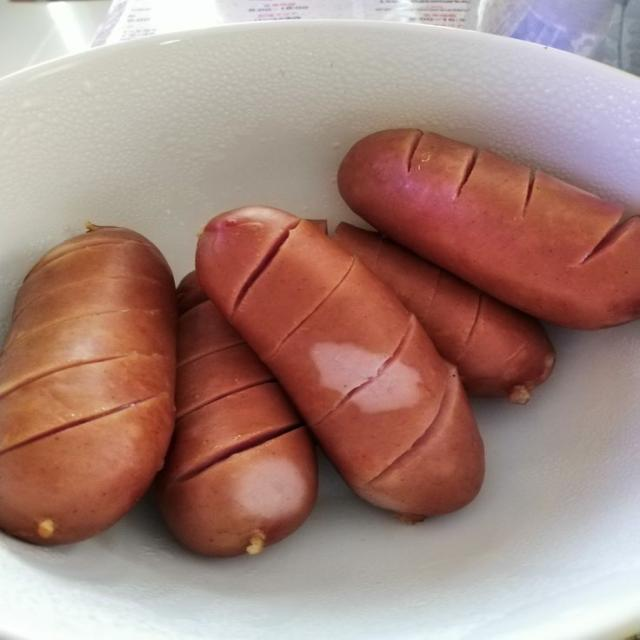sausage: (197, 207, 483, 519), (339, 130, 639, 329), (0, 226, 175, 544), (159, 273, 317, 556), (334, 223, 554, 403)
